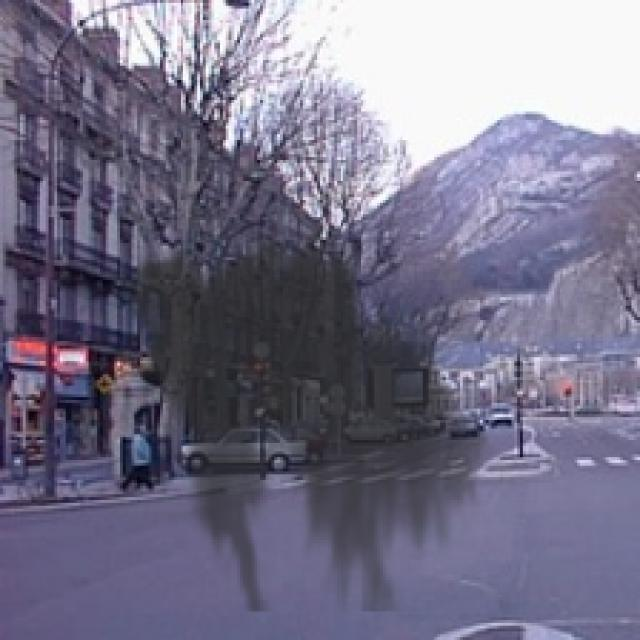Smoke: (108, 217, 500, 612)
